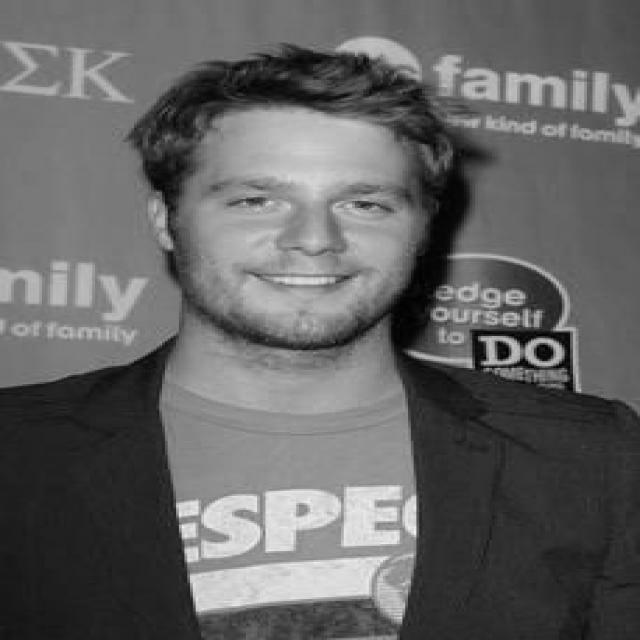real: (140, 110, 444, 354)
